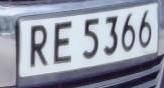3: (102, 13, 121, 60)
5: (80, 13, 102, 65)
6: (136, 7, 154, 55), (119, 10, 137, 57)
E: (51, 17, 76, 70)
R: (28, 18, 52, 75)
